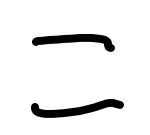eqv: (32, 33, 124, 118)
